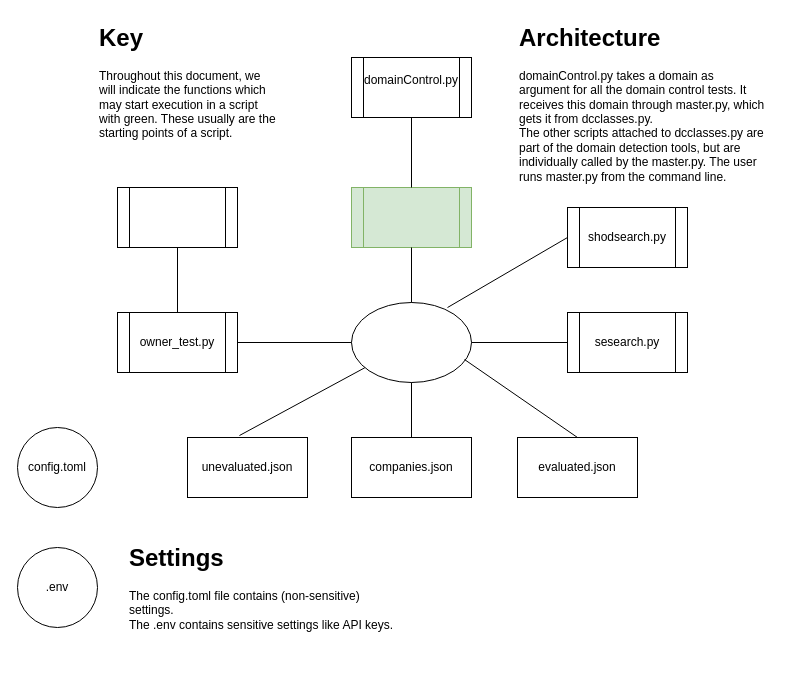
Some shapes in this 785 by 677 pixel diagram are drawn without their labels. The box of each missing label's shape, as (x1, y1, x2, y2) in pixels:
dcclasses.py: (350, 302, 472, 382)
master.py: (350, 186, 472, 248)
scraper.py: (116, 186, 238, 248)
